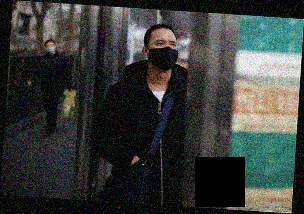with_mask: (148, 36, 179, 71), (46, 43, 57, 55)
